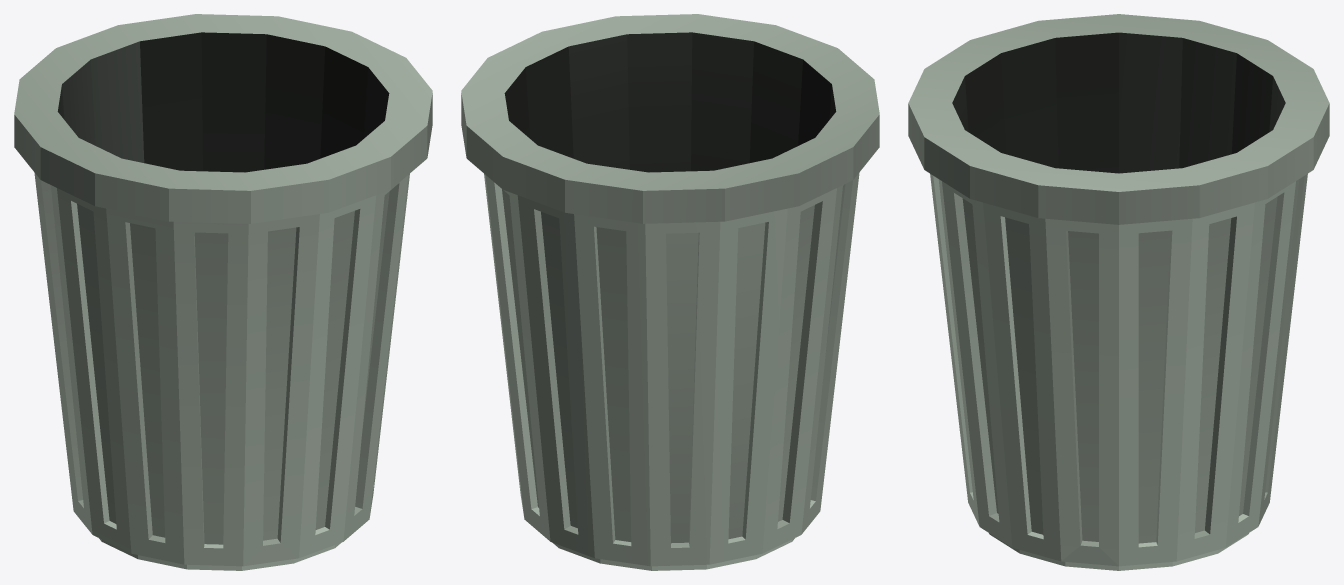
The model's file is SM_Papelera.fbx.
The picture shows the model from 3 angles, left to right: view 1: azimuth 30°, elevation 25°; view 2: azimuth 150°, elevation 25°; view 3: azimuth 270°, elevation 25°; orthographic projection.
Visible parts, largest first — view 1: Cylinder.001; view 2: Cylinder.001; view 3: Cylinder.001.
Boxes of the visible parts, x1,y1,x2,y2 form: Cylinder.001: (14, 14, 432, 570); Cylinder.001: (461, 14, 879, 570); Cylinder.001: (908, 14, 1329, 570).
Bounding box in the file's own units: 36.82 × 39.41 × 36.82.
